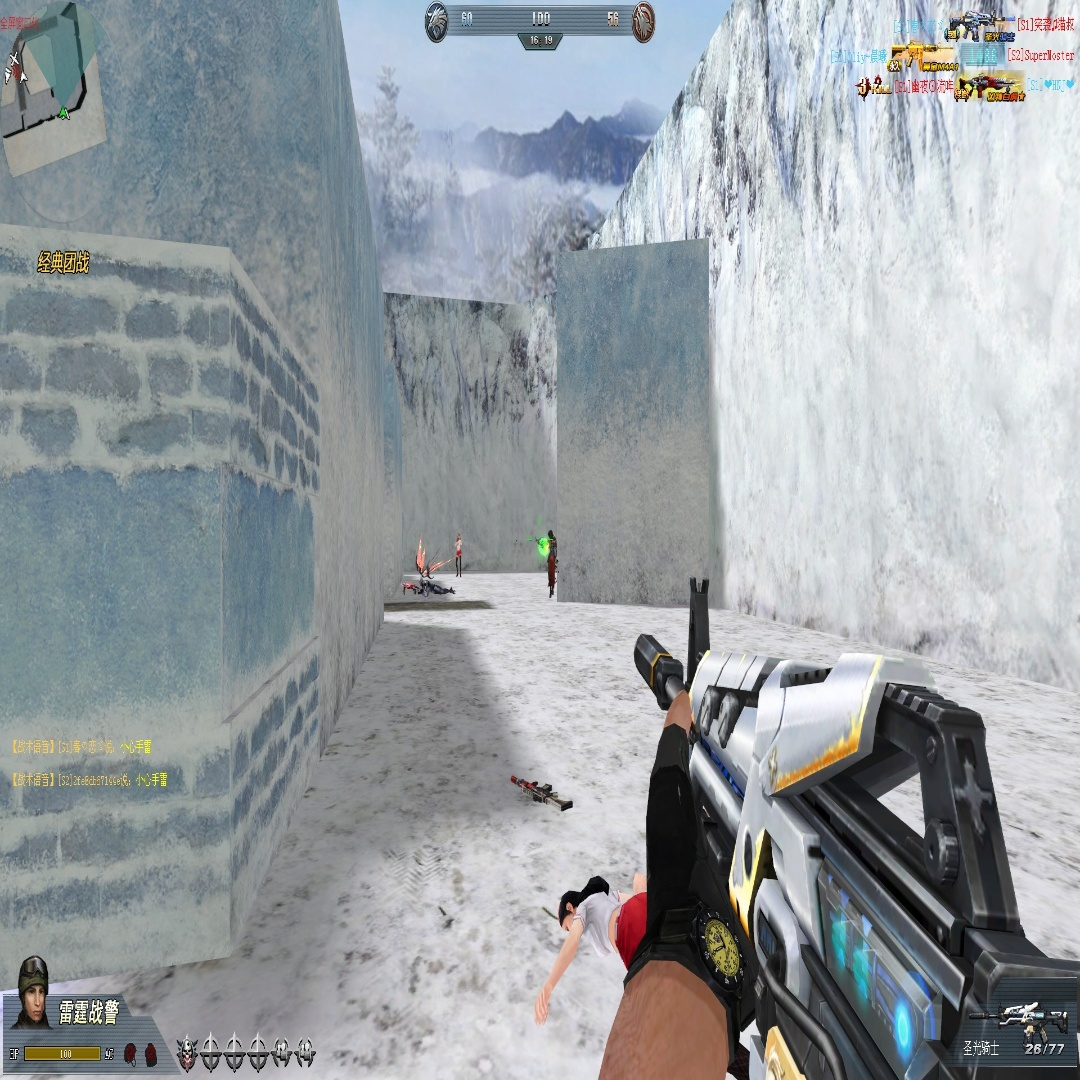t: (544, 530, 558, 597), (454, 530, 464, 572)
